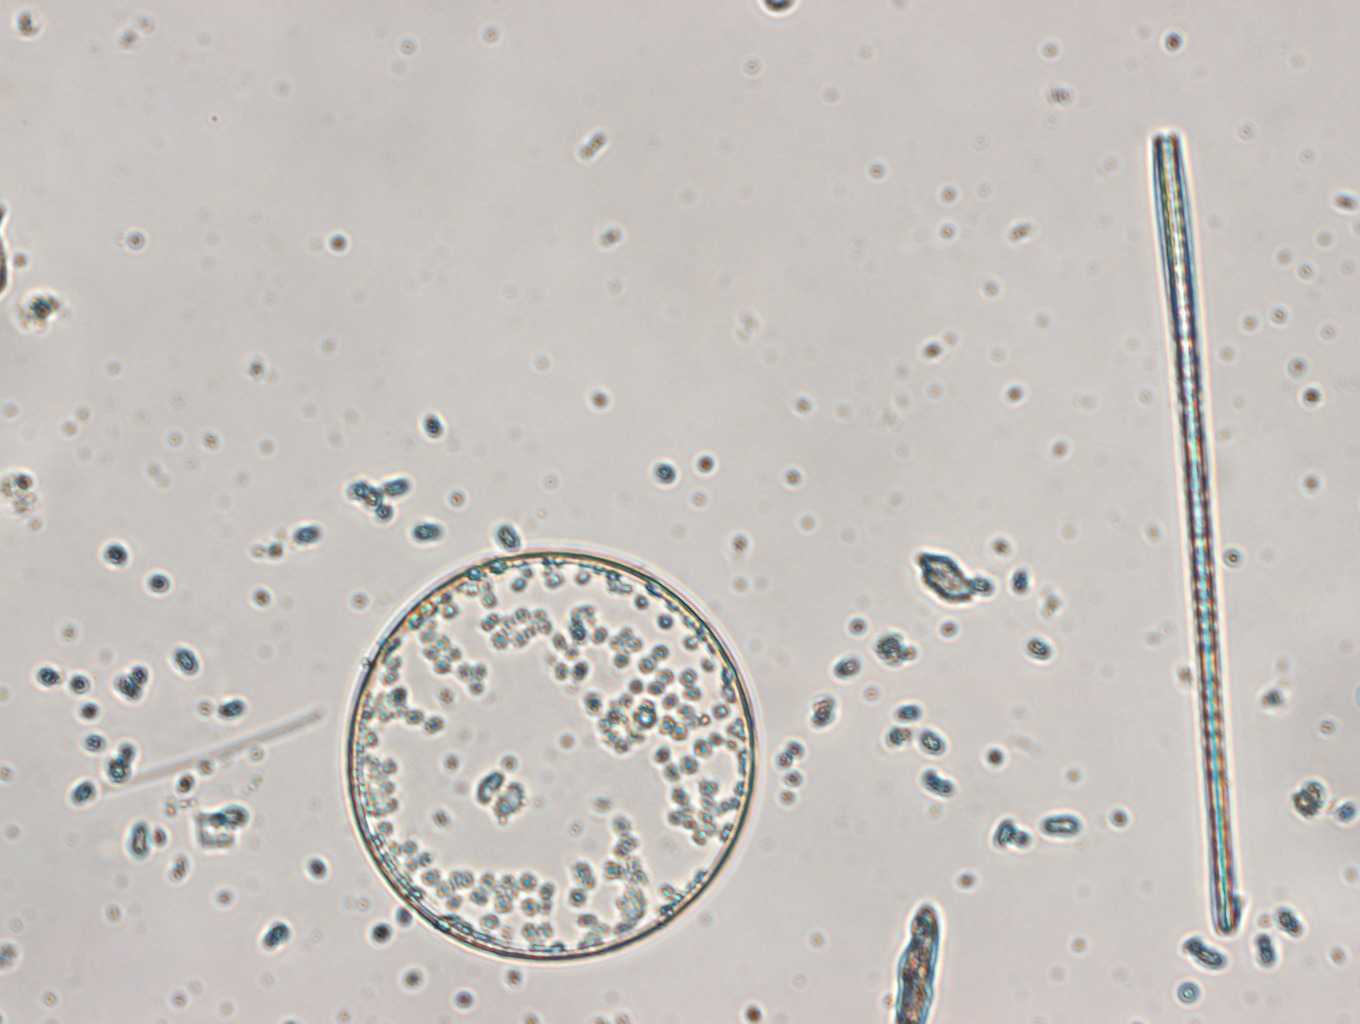coscinodiscus: (343, 547, 759, 962)
thalassionema frauenfeldii: (1150, 128, 1242, 934)
